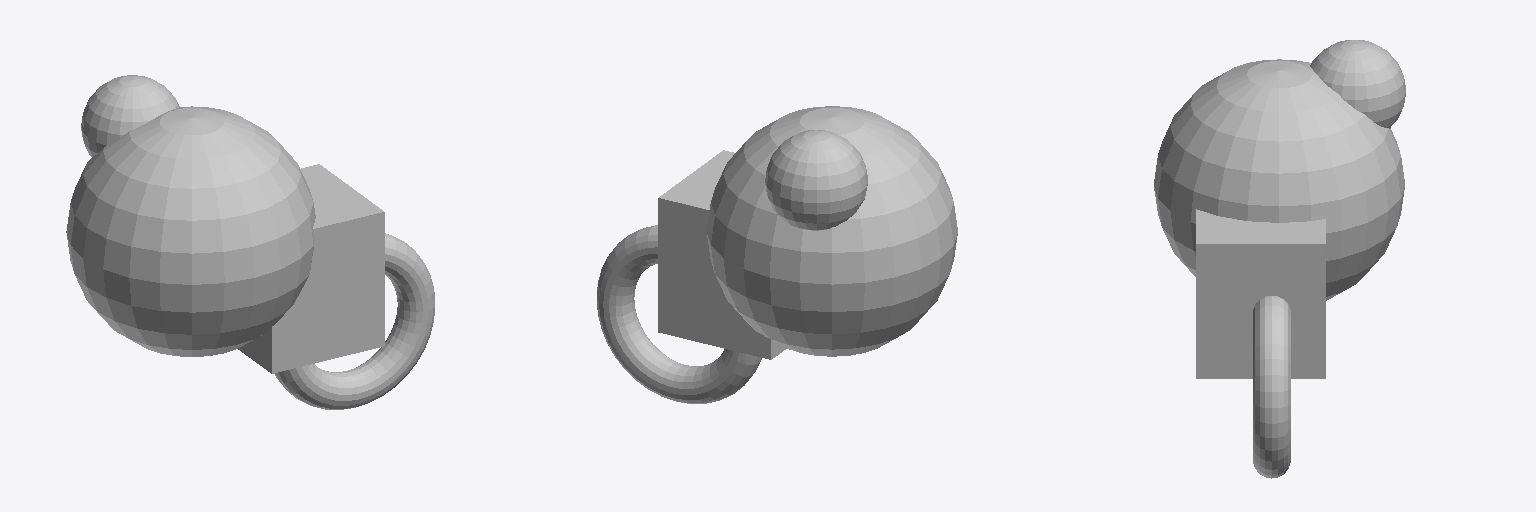
File: symbol.obj
3 views of the same model, side by side, from view 1: azimuth 30°, elevation 25°; view 2: azimuth 150°, elevation 25°; view 3: azimuth 270°, elevation 25° (orthographic).
Visible parts, largest first — view 1: Sphere, Cube, Torus, Sphere.1; view 2: Sphere, Cube, Torus, Sphere.1; view 3: Sphere, Cube, Torus, Sphere.1.
Boxes of the visible parts, x1=… form: Sphere: x1=66, y1=106, x2=315, y2=356; Cube: x1=238, y1=164, x2=384, y2=373; Torus: x1=274, y1=233, x2=434, y2=409; Sphere.1: x1=81, y1=75, x2=179, y2=156; Sphere: x1=707, y1=106, x2=957, y2=356; Cube: x1=658, y1=150, x2=786, y2=359; Torus: x1=597, y1=225, x2=761, y2=403; Sphere.1: x1=765, y1=130, x2=867, y2=230; Sphere: x1=1154, y1=59, x2=1404, y2=300; Cube: x1=1196, y1=209, x2=1325, y2=378; Torus: x1=1253, y1=296, x2=1290, y2=478; Sphere.1: x1=1310, y1=40, x2=1405, y2=128.
Bounding box in the file's own units: 318 × 298 × 201.